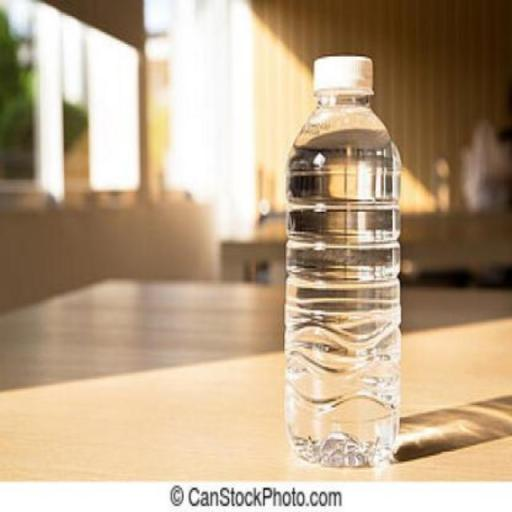Coca: (276, 45, 410, 478)
